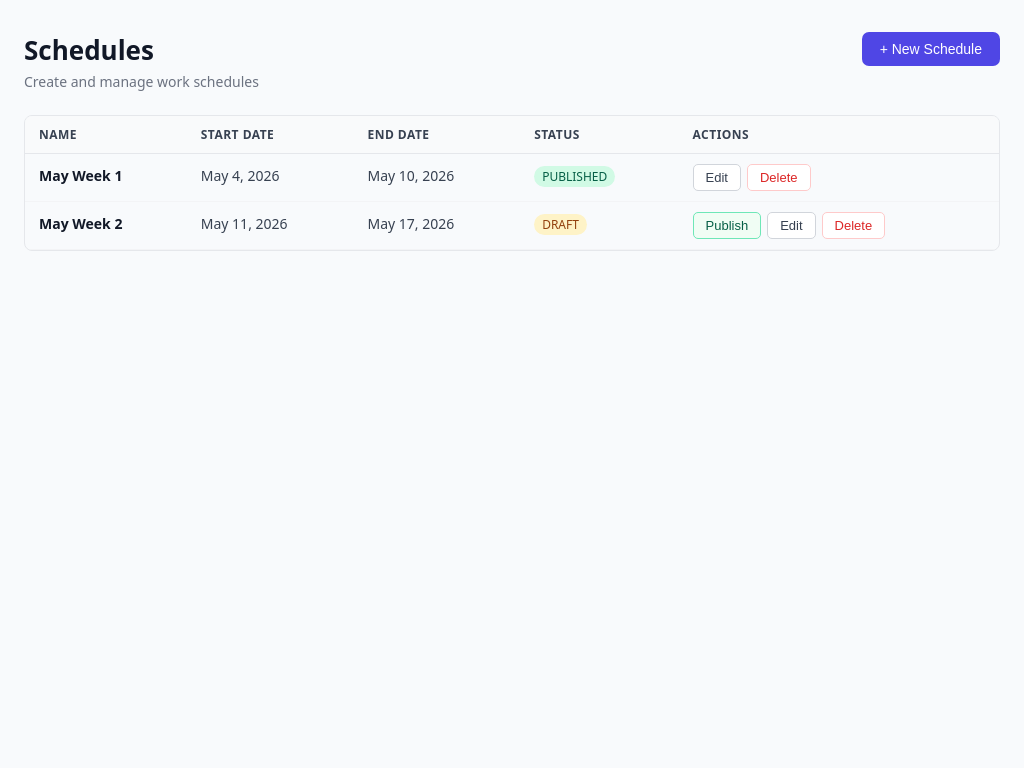
Test case: SchedulesPage — delete schedule › shows a delete confirmation dialog when Delete is clicked
Check: the text "May Week 1" is shown, box [39,166,122,185]
Click the button "Delete" in the row of "May Week 1". click: coordinates (779, 178)
box: [747,164,811,191]
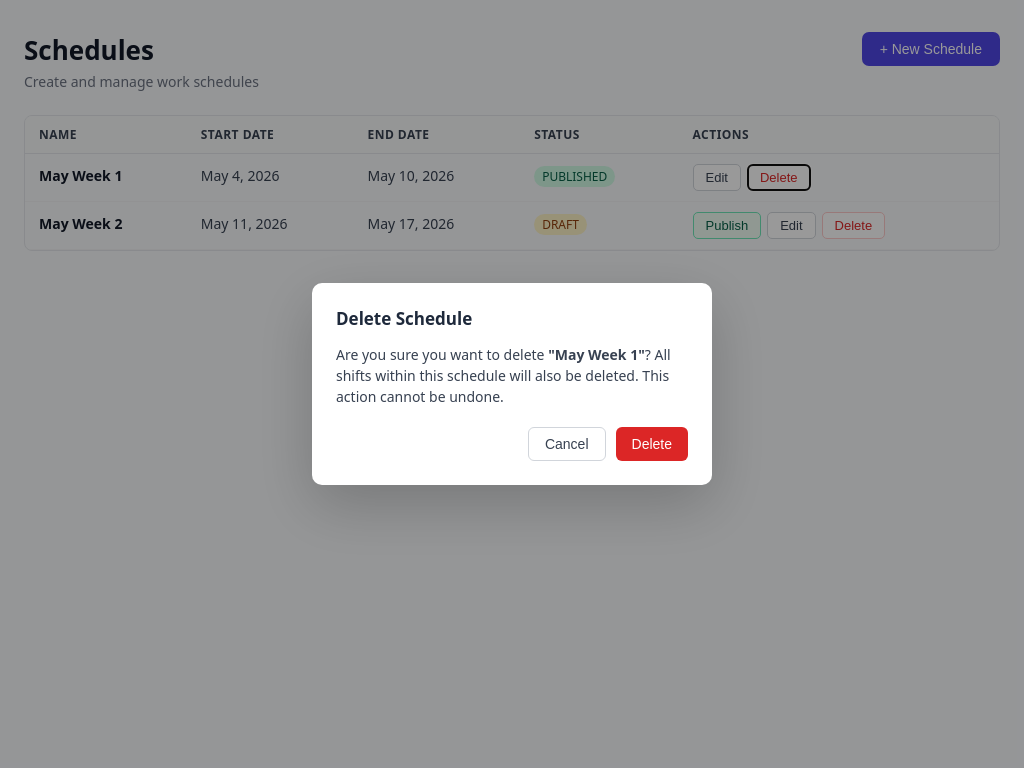
Check: the heading "Delete Schedule" is shown, box [336,307,472,330]
